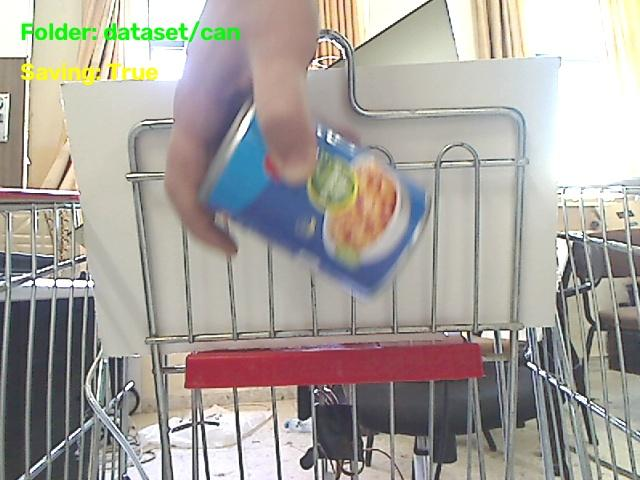can: (200, 102, 428, 297)
